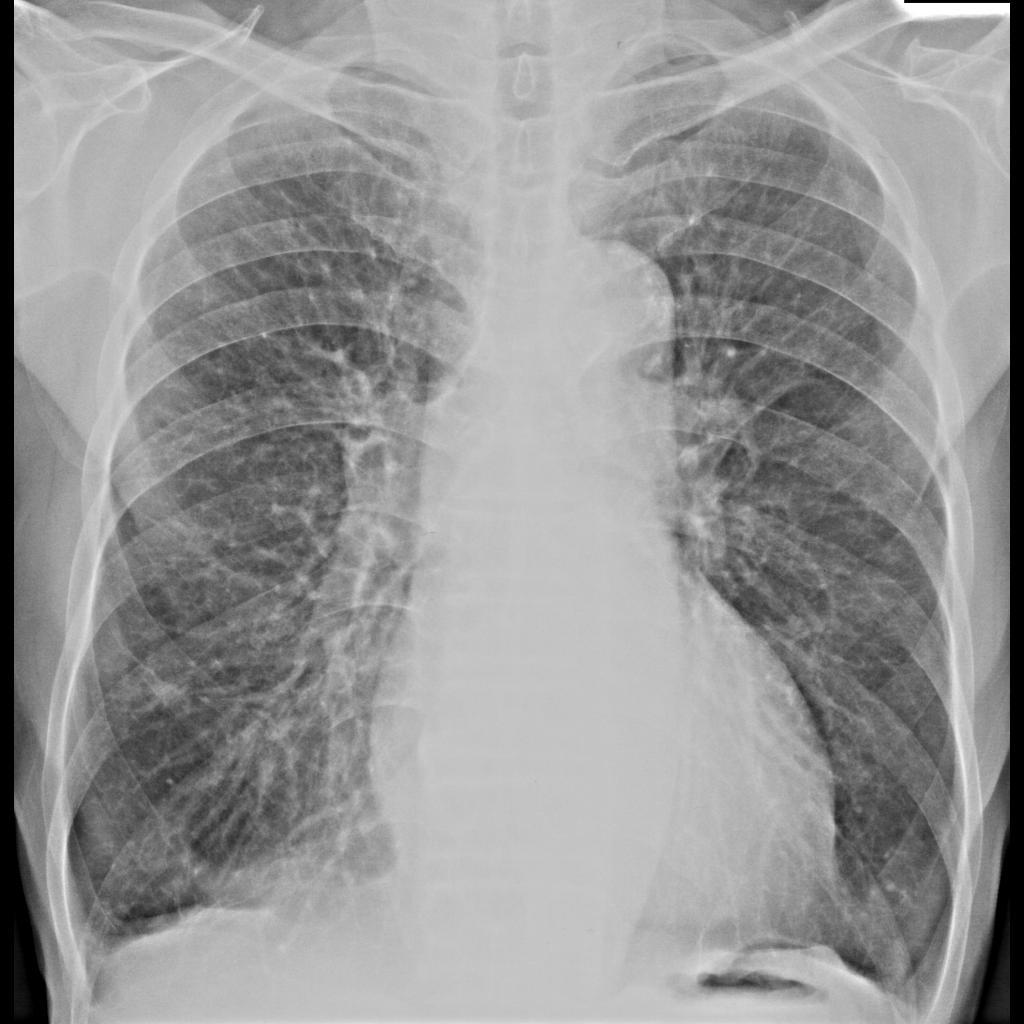Nodule: (148, 673, 188, 714)
